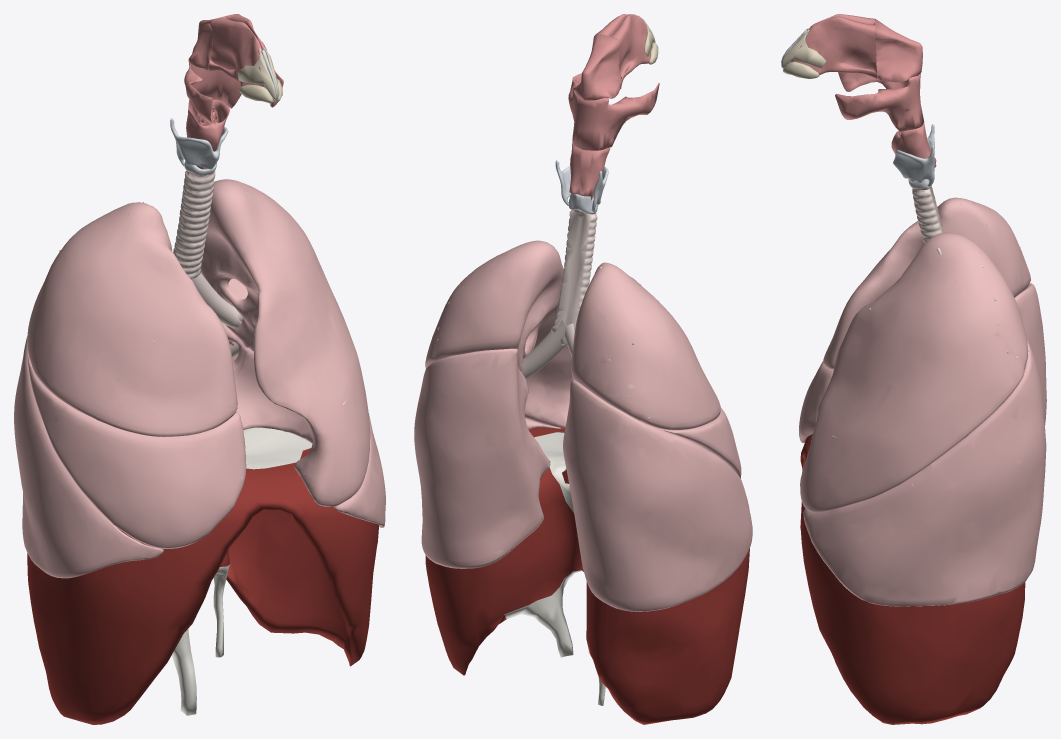
The picture shows the model from 3 angles, left to right: view 1: azimuth 30°, elevation 25°; view 2: azimuth 150°, elevation 25°; view 3: azimuth 270°, elevation 25°; orthographic projection. The views are drawn at different scales.
Parts seen in each view (by area): view 1: Muscle_Diaphragm, Lung_Superior_Lobe_Of_Right_Lung, Lung_Superior_Lobe_Of_Left_Lung, Lung_Middle_Lobe_Of_Right_Lung, Lung_Inferior_Lobe_Of_Right_Lung, Lung_Inferior_Lobe_Of_Left_Lung, Resp_Trachea, Resp_Mucosa_Of_Nasal_Cavity, Resp_Oropharynx, Cart_Thyroid, Resp_Laryngopharynx, Resp_Left_Main_Bronchus (+2 smaller); view 2: Muscle_Diaphragm, Lung_Inferior_Lobe_Of_Right_Lung, Lung_Inferior_Lobe_Of_Left_Lung, Lung_Superior_Lobe_Of_Right_Lung, Lung_Superior_Lobe_Of_Left_Lung, Resp_Oropharynx, Resp_Trachea, Resp_Nasopharynx, Resp_Mucosa_Of_Nasal_Cavity, Lung_Middle_Lobe_Of_Right_Lung, Resp_Laryngopharynx, Resp_Left_Main_Bronchus (+1 smaller); view 3: Lung_Superior_Lobe_Of_Left_Lung, Lung_Inferior_Lobe_Of_Left_Lung, Muscle_Diaphragm, Lung_Superior_Lobe_Of_Right_Lung, Resp_Mucosa_Of_Nasal_Cavity, Resp_Oropharynx, Resp_Nasopharynx, Lung_Inferior_Lobe_Of_Right_Lung, Lung_Middle_Lobe_Of_Right_Lung, Cart_Thyroid, Resp_Trachea, Resp_Laryngopharynx (+1 smaller).
Boxes of the visible parts, x1,y1,x2,y2 form: Muscle_Diaphragm: [27, 427, 378, 724]; Lung_Superior_Lobe_Of_Right_Lung: [27, 202, 237, 436]; Lung_Superior_Lobe_Of_Left_Lung: [200, 179, 370, 506]; Lung_Middle_Lobe_Of_Right_Lung: [28, 357, 246, 548]; Lung_Inferior_Lobe_Of_Right_Lung: [14, 336, 163, 578]; Lung_Inferior_Lobe_Of_Left_Lung: [222, 278, 385, 527]; Resp_Trachea: [173, 170, 215, 278]; Resp_Mucosa_Of_Nasal_Cavity: [209, 14, 268, 88]; Resp_Oropharynx: [184, 60, 283, 122]; Cart_Thyroid: [170, 118, 228, 169]; Resp_Laryngopharynx: [186, 99, 229, 176]; Resp_Left_Main_Bronchus: [191, 273, 238, 326]; Muscle_Diaphragm: [425, 427, 749, 724]; Lung_Inferior_Lobe_Of_Right_Lung: [563, 379, 752, 611]; Lung_Inferior_Lobe_Of_Left_Lung: [414, 348, 560, 568]; Lung_Superior_Lobe_Of_Right_Lung: [571, 262, 720, 429]; Lung_Superior_Lobe_Of_Left_Lung: [425, 240, 572, 428]; Resp_Oropharynx: [568, 73, 659, 150]; Resp_Trachea: [551, 209, 597, 346]; Resp_Nasopharynx: [572, 34, 621, 100]; Resp_Mucosa_Of_Nasal_Cavity: [596, 14, 651, 84]; Lung_Middle_Lobe_Of_Right_Lung: [657, 407, 741, 478]; Resp_Laryngopharynx: [569, 143, 610, 214]; Resp_Left_Main_Bronchus: [523, 320, 565, 378]; Lung_Superior_Lobe_Of_Left_Lung: [800, 232, 1028, 512]; Lung_Inferior_Lobe_Of_Left_Lung: [803, 339, 1046, 606]; Muscle_Diaphragm: [800, 434, 1025, 724]; Lung_Superior_Lobe_Of_Right_Lung: [823, 197, 1030, 369]; Resp_Mucosa_Of_Nasal_Cavity: [791, 14, 877, 78]; Resp_Oropharynx: [835, 72, 924, 131]; Resp_Nasopharynx: [875, 19, 922, 82]; Lung_Inferior_Lobe_Of_Right_Lung: [1014, 283, 1046, 424]; Lung_Middle_Lobe_Of_Right_Lung: [799, 361, 833, 443]; Cart_Thyroid: [893, 124, 934, 186]; Resp_Trachea: [912, 186, 943, 243]; Resp_Laryngopharynx: [891, 122, 936, 189].
Size of the model in its own units: 0.2609 by 0.5572 by 0.199.
